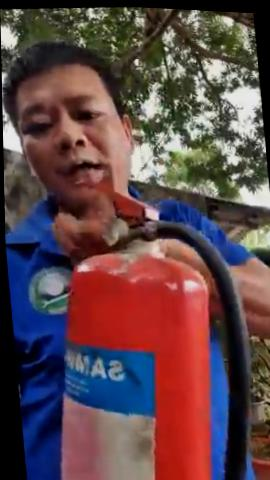FireExtinguisher: (21, 185, 256, 480)
not: (245, 424, 270, 480)
